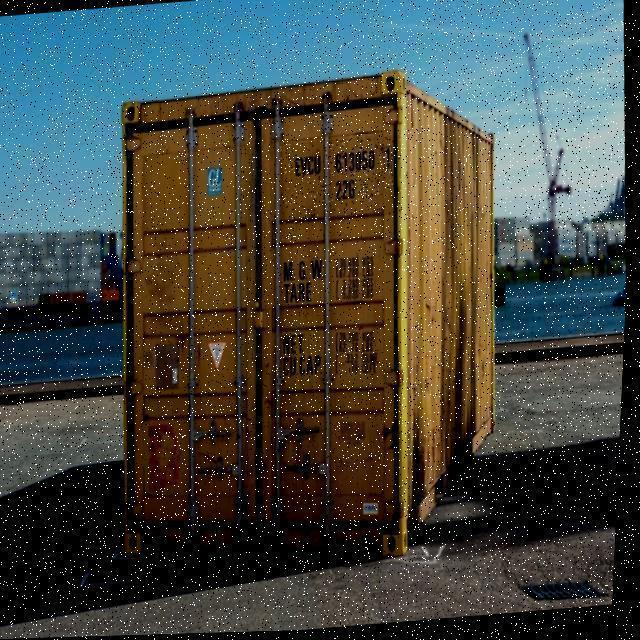ISO: (332, 180, 358, 198)
container_number: (296, 148, 392, 176)
